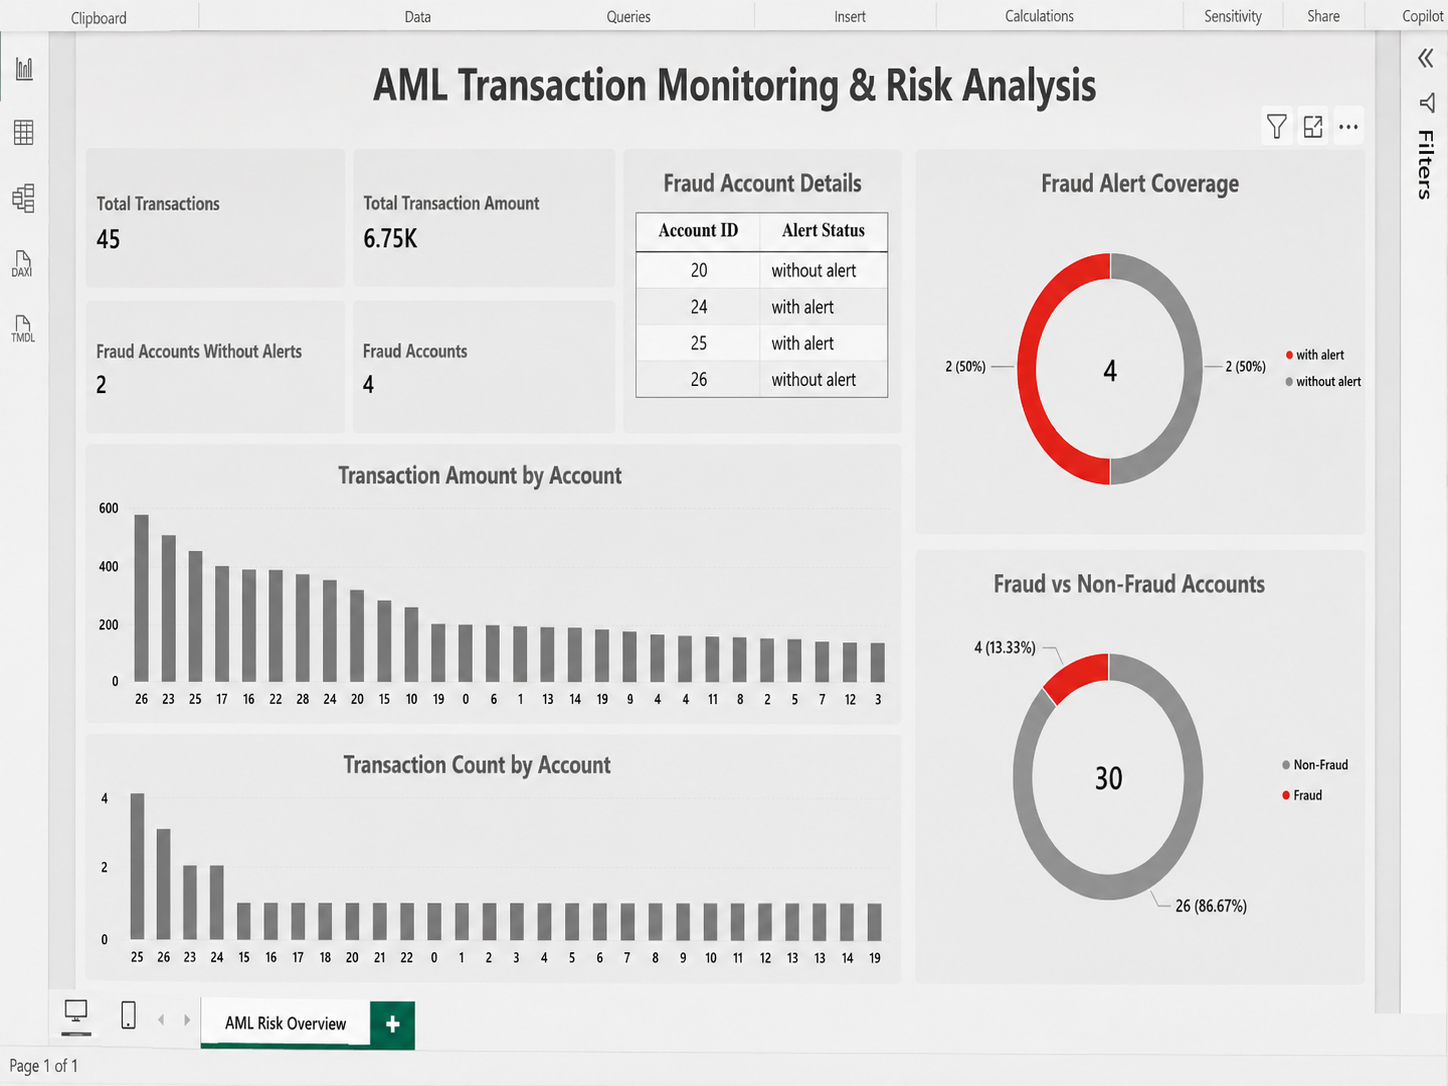

Layout of this report page (visuals, bound fields, positions):
{"tool":"powerbi","page":{"name":"AML Risk Overview","canvas":[2100,1205],"ordinal":0},"visuals":[{"type":"cardVisual","fields":{"Data":["CountNonNull(aml_risk_analysis tx.TXN_ID)"]},"box":[19.9,149.4,442.3,167.4],"z":0},{"type":"cardVisual","fields":{"Data":["Sum(aml_risk_analysis tx.TXN_AMOUNT_ORIG)"]},"box":[472.2,149.4,442.3,167.4],"z":1000},{"type":"cardVisual","fields":{"Data":["aml_risk_analysis accounts.Fraud Accounts Without Alerts"]},"box":[19.9,330.7,442.3,167.4],"z":2000},{"type":"cardVisual","fields":{"Data":["aml_risk_analysis accounts.Fraud Accounts"]},"box":[472.2,330.7,442.3,167.4],"z":3000},{"type":"clusteredColumnChart","title":"Transaction Amount by Account","fields":{"Y":["Sum(aml_risk_analysis tx.TXN_AMOUNT_ORIG)"],"Category":["aml_risk_analysis tx.ACCOUNT_ID"]},"box":[19.9,506.1,1307,328.7],"z":4000},{"type":"clusteredColumnChart","title":"Transaction Count by Account","fields":{"Category":["aml_risk_analysis tx.ACCOUNT_ID"],"Y":["CountNonNull(aml_risk_analysis tx.TXN_ID)"]},"box":[19.9,856.7,1307,328.7],"z":5000},{"type":"donutChart","title":"Fraud Alert Coverage","fields":{"Category":["aml_risk_analysis accounts.Alert Status"],"Y":["CountNonNull(aml_risk_analysis accounts.ACCOUNT_ID)"]},"box":[1352.8,149.4,731.2,506.1],"z":6000},{"type":"tableEx","title":"Fraud Account Details","fields":{"Values":["aml_risk_analysis accounts.ACCOUNT_ID","aml_risk_analysis accounts.Alert Status"]},"box":[924.5,149.4,402.5,348.7],"z":7000},{"type":"textbox","box":[0,27.9,2100,85.7],"z":8000},{"type":"donutChart","title":"Fraud vs Non-Fraud Accounts","fields":{"Category":["aml_risk_analysis accounts.Fraud Status"],"Y":["CountNonNull(aml_risk_analysis accounts.ACCOUNT_ID)"]},"box":[1352.8,679.4,731.2,506.1],"z":9000}]}

Visuals, with their boxes on the page's 2100x1205 design canvas (x1, y1, x2, y2). These are canvas units, not pixel positions in the 1448x1086 screenshot, which may show the page scaled, cropped or inside an application window:
cardVisual - CountNonNull(aml_risk_analysis tx.TXN_ID): crop(20, 149, 462, 317)
cardVisual - Sum(aml_risk_analysis tx.TXN_AMOUNT_ORIG): crop(472, 149, 914, 317)
cardVisual - aml_risk_analysis accounts.Fraud Accounts Without Alerts: crop(20, 331, 462, 498)
cardVisual - aml_risk_analysis accounts.Fraud Accounts: crop(472, 331, 914, 498)
"Transaction Amount by Account" clusteredColumnChart: crop(20, 506, 1327, 835)
"Transaction Count by Account" clusteredColumnChart: crop(20, 857, 1327, 1185)
"Fraud Alert Coverage" donutChart: crop(1353, 149, 2084, 656)
"Fraud Account Details" tableEx: crop(924, 149, 1327, 498)
textbox: crop(0, 28, 2100, 114)
"Fraud vs Non-Fraud Accounts" donutChart: crop(1353, 679, 2084, 1186)
